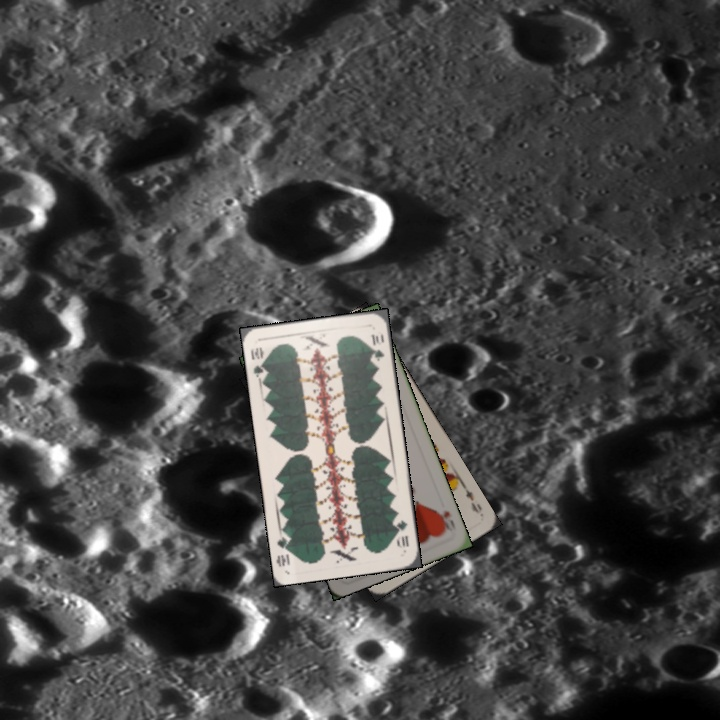E9: (458, 481, 485, 518)
G10: (247, 343, 269, 382), (391, 516, 411, 550)
HO: (432, 505, 459, 535)
